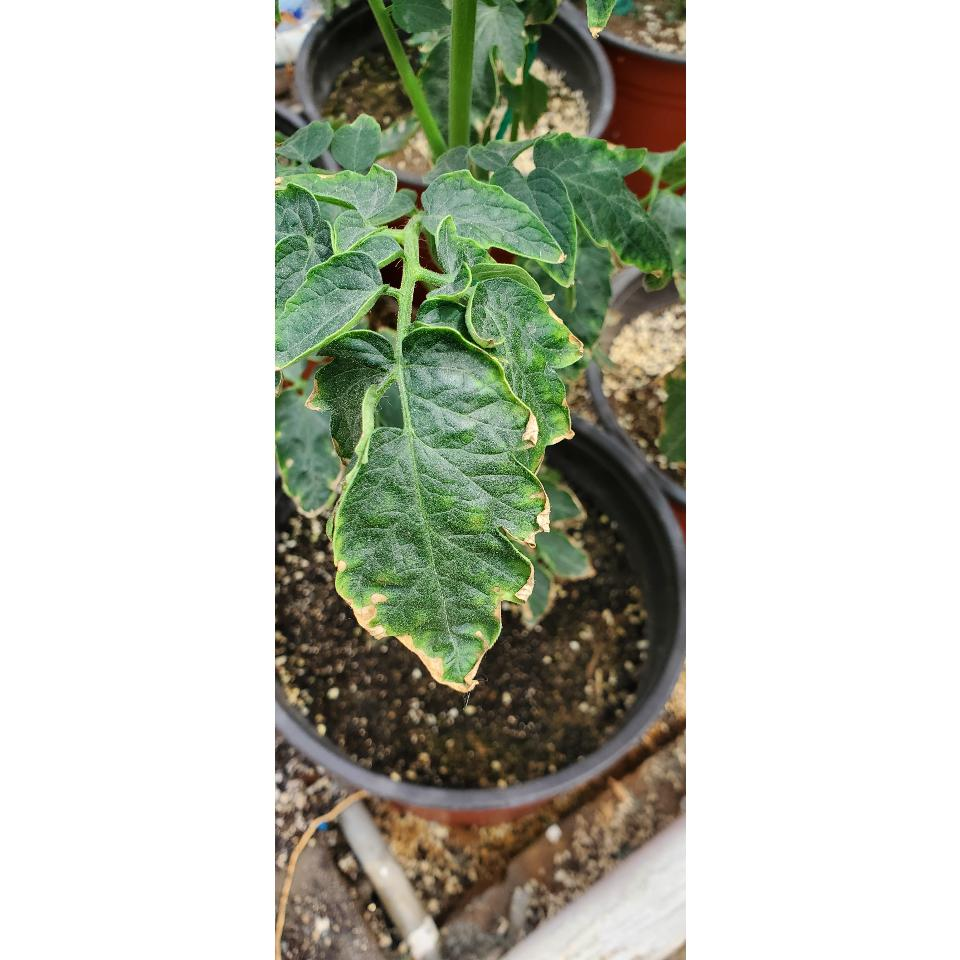tomato_bacterial_blight: (322, 323, 550, 690)
